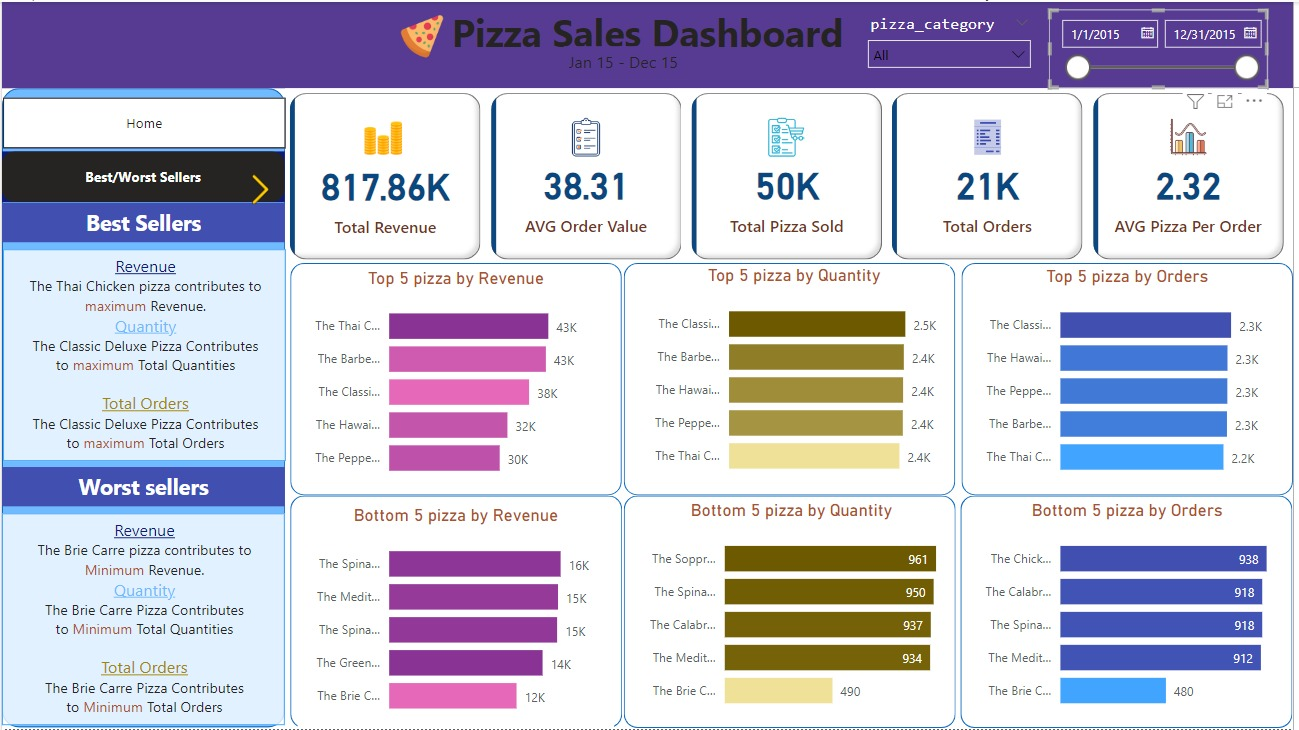

What the dashboard file says about the page in this screenshot:
{"tool":"powerbi","page":{"name":"Best/Worst Sellers","canvas":[1280,720],"ordinal":1},"visuals":[{"type":"shape","box":[0,85.9,280.7,633.7],"z":0},{"type":"textbox","box":[0,0,1279.9,85.5],"z":1000},{"type":"cardVisual","fields":{"Data":["Our Measure.Total Revenue","Our Measure.AVG Order Value","Our Measure.Total Pizza Sold","Our Measure.Total Orders","Our Measure.AVG Pizza Per Order"]},"box":[280.9,86,999,175.1],"z":2000},{"type":"image","box":[236.9,7.3,358.5,53.5],"z":3000},{"type":"textbox","box":[556.6,44,127.9,33.5],"z":4000},{"type":"shape","box":[286.2,489.5,329.1,230.6],"z":5000},{"type":"shape","box":[616.4,489.5,329.1,230.6],"z":6000},{"type":"shape","box":[950.7,489.5,329.1,230.6],"z":7000},{"type":"slicer","fields":{"Values":["pizza_sales.pizza_category"]},"box":[848.4,7.3,182.2,64.9],"z":8000},{"type":"textbox","box":[0,199.2,280.6,38.6],"z":9000},{"type":"textbox","box":[1,245.1,280.6,209.7],"z":10000},{"type":"textbox","box":[0,461.1,280.6,38.6],"z":11000},{"type":"shape","box":[286.2,489.4,329.1,230.6],"z":13000},{"type":"shape","box":[285.8,258.7,328.6,230.5],"z":14000},{"type":"shape","box":[616.5,258.7,328.6,230.5],"z":15000},{"type":"shape","box":[950.7,489.4,329.1,230.6],"z":16000},{"type":"shape","box":[951.3,258.7,328.6,230.5],"z":17000},{"type":"barChart","title":"Top 5 pizza by Orders","fields":{"Y":["Our Measure.Total Orders"],"Category":["pizza_sales.pizza_name"]},"box":[958.6,262.9,314,220.1],"z":18000},{"type":"barChart","title":"Bottom 5 pizza by Orders","fields":{"Y":["Our Measure.Total Orders"],"Category":["pizza_sales.pizza_name"]},"box":[958.6,494.4,314,220.1],"z":19000},{"type":"barChart","title":"Top 5 pizza by Quantity","fields":{"Category":["pizza_sales.pizza_name"],"Y":["Our Measure.Total Pizza Sold"]},"box":[631.1,261.8,308.8,220.1],"z":20000},{"type":"barChart","title":"Bottom 5 pizza by Quantity","fields":{"Category":["pizza_sales.pizza_name"],"Y":["Our Measure.Total Pizza Sold"]},"box":[625.9,494.4,314,220.1],"z":21000},{"type":"barChart","title":"Top 5 pizza by Revenue","fields":{"Category":["pizza_sales.pizza_name"],"Y":["Our Measure.Total Revenue"]},"box":[293.1,263.9,314,220.1],"z":22000},{"type":"barChart","title":"Top 5 pizza by Revenue","fields":{"Category":["pizza_sales.pizza_name"],"Y":["Our Measure.Total Revenue"]},"box":[293.1,499.7,314,220.1],"z":23000},{"type":"textbox","box":[0,507,280.6,209.7],"z":24000},{"type":"pageNavigator","box":[1,94.9,280.6,50.1],"z":25000},{"type":"pageNavigator","box":[0,148.1,280.6,50.1],"z":26000},{"type":"image","box":[236.8,160.6,39.6,50.1],"z":27000},{"type":"slicer","fields":{"Values":["pizza_sales.order_date"]},"box":[1037.9,7.3,217,78.2],"z":27001}]}

Visuals, with their boxes in screenshot pixels (x1, y1, x2, y2), scaled from the page's 1280x720 canvas onto the 1299x730 screenshot:
shape: pyautogui.locateOnScreen(0, 87, 285, 729)
textbox: pyautogui.locateOnScreen(0, 0, 1298, 87)
cardVisual - Our Measure.Total Revenue x Our Measure.AVG Order Value: pyautogui.locateOnScreen(285, 87, 1298, 265)
image: pyautogui.locateOnScreen(240, 7, 604, 62)
textbox: pyautogui.locateOnScreen(565, 45, 695, 79)
shape: pyautogui.locateOnScreen(290, 496, 624, 729)
shape: pyautogui.locateOnScreen(626, 496, 960, 729)
shape: pyautogui.locateOnScreen(965, 496, 1298, 729)
slicer - pizza_sales.pizza_category: pyautogui.locateOnScreen(861, 7, 1046, 73)
textbox: pyautogui.locateOnScreen(0, 202, 285, 241)
textbox: pyautogui.locateOnScreen(1, 249, 286, 461)
textbox: pyautogui.locateOnScreen(0, 468, 285, 507)
shape: pyautogui.locateOnScreen(290, 496, 624, 729)
shape: pyautogui.locateOnScreen(290, 262, 624, 496)
shape: pyautogui.locateOnScreen(626, 262, 959, 496)
shape: pyautogui.locateOnScreen(965, 496, 1298, 729)
shape: pyautogui.locateOnScreen(965, 262, 1298, 496)
"Top 5 pizza by Orders" barChart: pyautogui.locateOnScreen(973, 267, 1291, 490)
"Bottom 5 pizza by Orders" barChart: pyautogui.locateOnScreen(973, 501, 1291, 724)
"Top 5 pizza by Quantity" barChart: pyautogui.locateOnScreen(640, 265, 954, 489)
"Bottom 5 pizza by Quantity" barChart: pyautogui.locateOnScreen(635, 501, 954, 724)
"Top 5 pizza by Revenue" barChart: pyautogui.locateOnScreen(297, 268, 616, 491)
"Top 5 pizza by Revenue" barChart: pyautogui.locateOnScreen(297, 507, 616, 729)
textbox: pyautogui.locateOnScreen(0, 514, 285, 727)
pageNavigator: pyautogui.locateOnScreen(1, 96, 286, 147)
pageNavigator: pyautogui.locateOnScreen(0, 150, 285, 201)
image: pyautogui.locateOnScreen(240, 163, 281, 214)
slicer - pizza_sales.order_date: pyautogui.locateOnScreen(1053, 7, 1274, 87)
